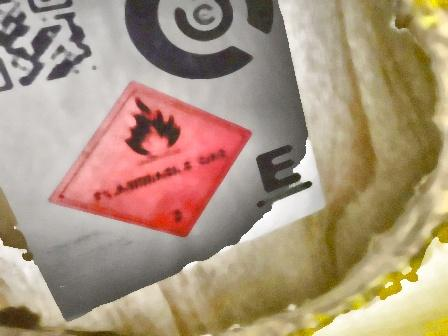flammable: (45, 79, 249, 237)
